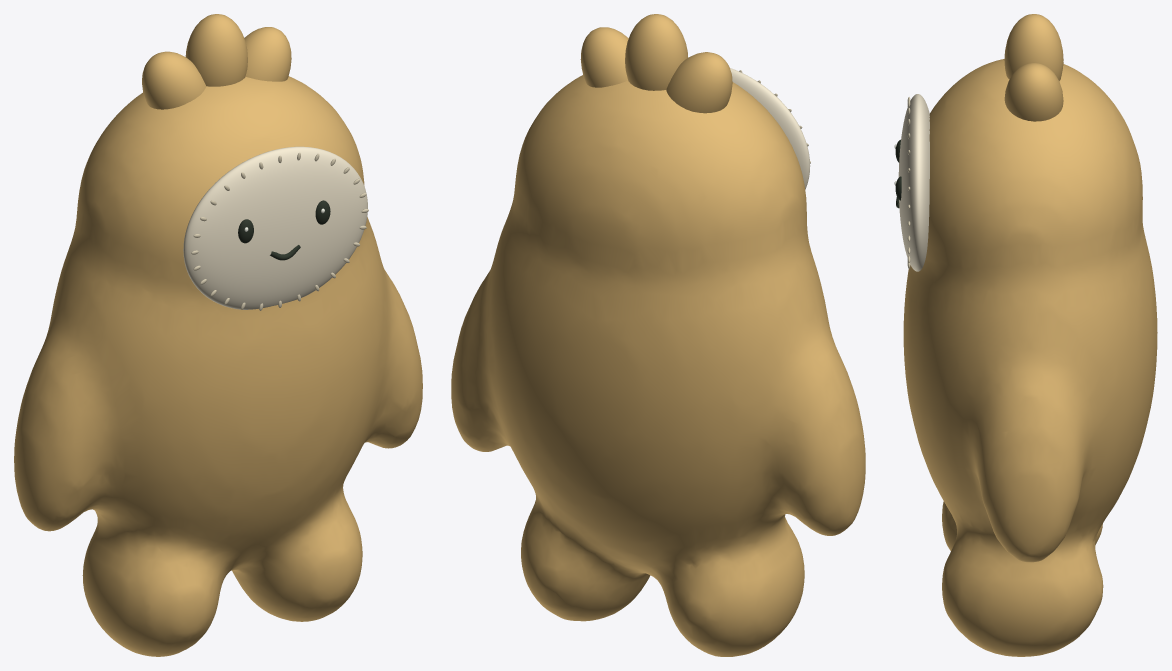
The model's file is sunny-soft-v2.glb.
3 renders of one model, left to right at view 1: azimuth 30°, elevation 25°; view 2: azimuth 150°, elevation 25°; view 3: azimuth 270°, elevation 25°, orthographic. The views are drawn at different scales.
Visible parts, largest first — view 1: Sunny continuous body, Linen face panel, Sun tuft.001, Sun tuft, Sun tuft.002; view 2: Sunny continuous body, Sun tuft.001, Sun tuft, Sun tuft.002, Linen face panel; view 3: Sunny continuous body, Linen face panel, Sun tuft.002, Sun tuft.001.
Part boxes in pixels (x1,y1,x2,y2): Sunny continuous body: (14, 76, 422, 656); Linen face panel: (183, 146, 367, 309); Sun tuft.001: (185, 14, 247, 86); Sun tuft: (142, 51, 206, 109); Sun tuft.002: (244, 27, 291, 81); Sunny continuous body: (451, 75, 865, 656); Sun tuft.001: (625, 14, 687, 90); Sun tuft: (666, 52, 732, 113); Sun tuft.002: (580, 27, 628, 87); Linen face panel: (730, 68, 810, 189); Sunny continuous body: (903, 59, 1157, 656); Linen face panel: (898, 94, 929, 271); Sun tuft.002: (1004, 63, 1063, 121); Sun tuft.001: (1004, 14, 1063, 80).
Bounding box in the file's own units: 1.28 × 1.91 × 0.756.
